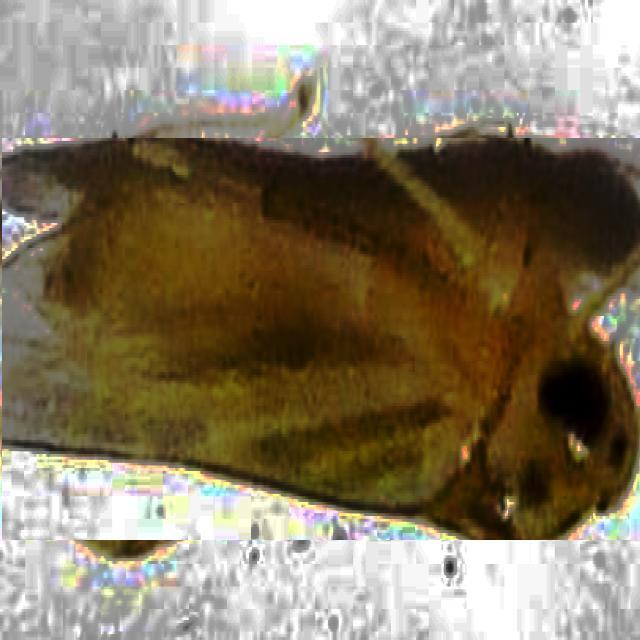green-leafhopper: (2, 138, 640, 540)
